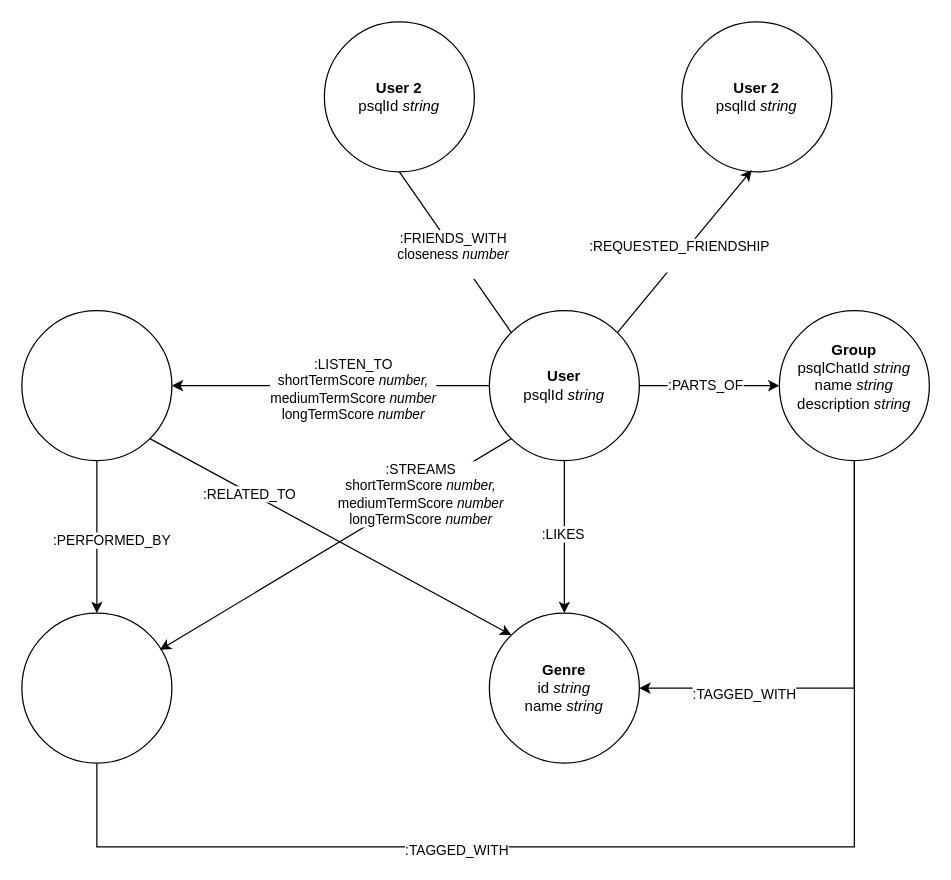
Some shapes in this 951 by 880 pixel diagram are drawn without their labels. The box of each missing label's shape, as (x1, y1, x2, y2) in pixels:
Artists id string name string profilePicture string spotifyURL string: (21, 612, 172, 763)
Song id string title string coverURL string spotifyURL string: (21, 309, 172, 461)
